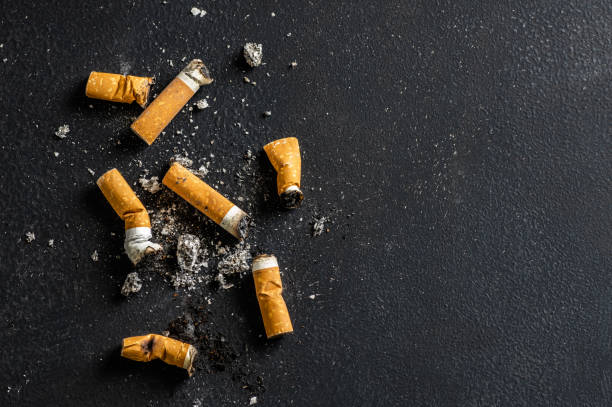cigarette: (161, 162, 256, 243), (129, 58, 213, 146), (95, 167, 166, 269), (250, 253, 295, 341), (120, 332, 200, 374), (261, 136, 305, 210), (85, 70, 157, 111)
